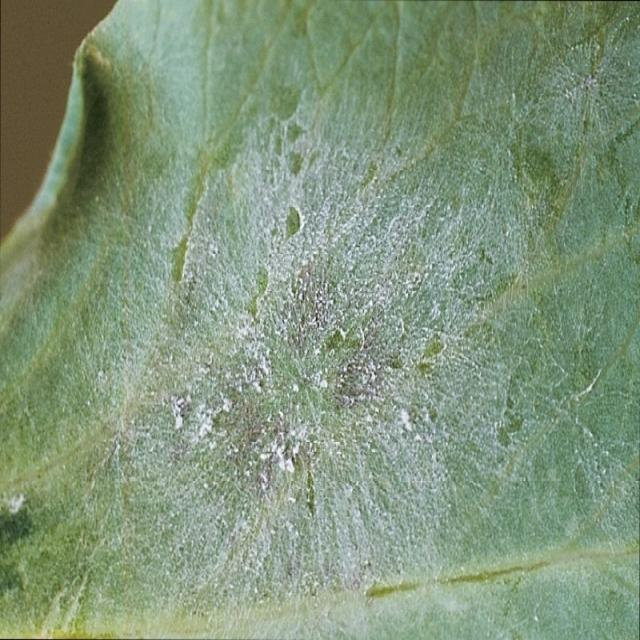Powdery Mildew: (1, 1, 636, 636)
